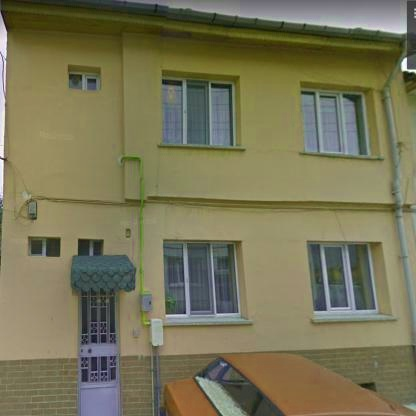door: (79, 290, 120, 385)
